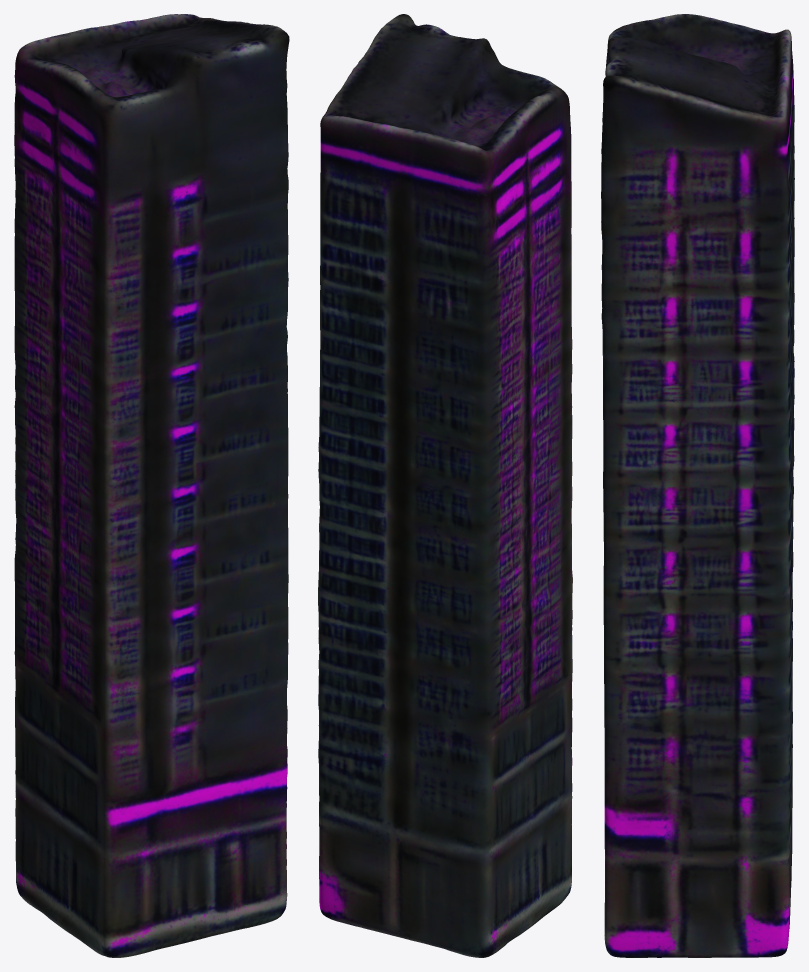
Rendered from 9d0991b65d4a_a_tall__minimalist_futuristic_sk.glb.
3 renders of one model, left to right at view 1: azimuth 30°, elevation 25°; view 2: azimuth 150°, elevation 25°; view 3: azimuth 270°, elevation 25°, orthographic. The views are drawn at different scales.
Visible parts, largest first — view 1: geometry_0; view 2: geometry_0; view 3: geometry_0.
Boxes of the visible parts, x1,y1,x2,y2 form: geometry_0: (14, 14, 289, 957); geometry_0: (318, 14, 572, 957); geometry_0: (601, 14, 794, 957).
Bounding box in the file's own units: 0.1281 × 0.5722 × 0.1136.
Materials: 1 (1 with a texture image).
